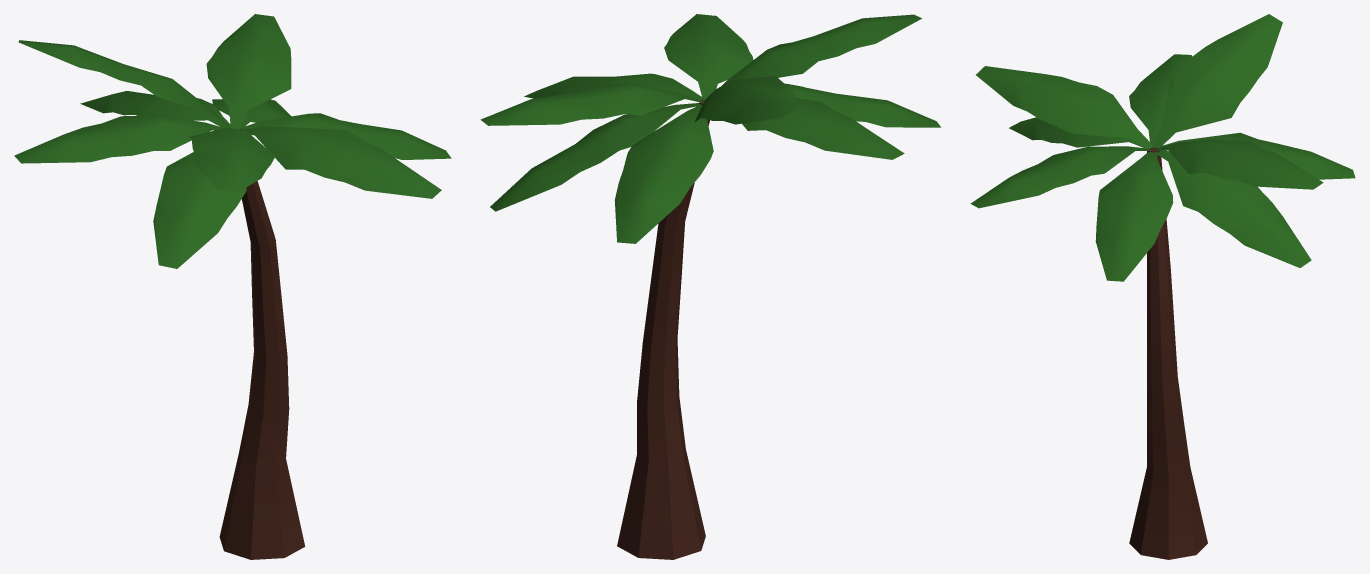
File: SM_palmtree_05.fbx
3 renders of one model, left to right at view 1: azimuth 30°, elevation 25°; view 2: azimuth 150°, elevation 25°; view 3: azimuth 270°, elevation 25°, orthographic. The views are drawn at different scales.
Visible parts, largest first — view 1: Palm_tree_02; view 2: Palm_tree_02; view 3: Palm_tree_02.
Boxes of the visible parts, bbox=[...] form: Palm_tree_02: bbox=[14, 14, 451, 559]; Palm_tree_02: bbox=[480, 14, 940, 559]; Palm_tree_02: bbox=[970, 14, 1355, 559].
Size of what is drawn, in the model's own units: 513 by 624 by 486.
